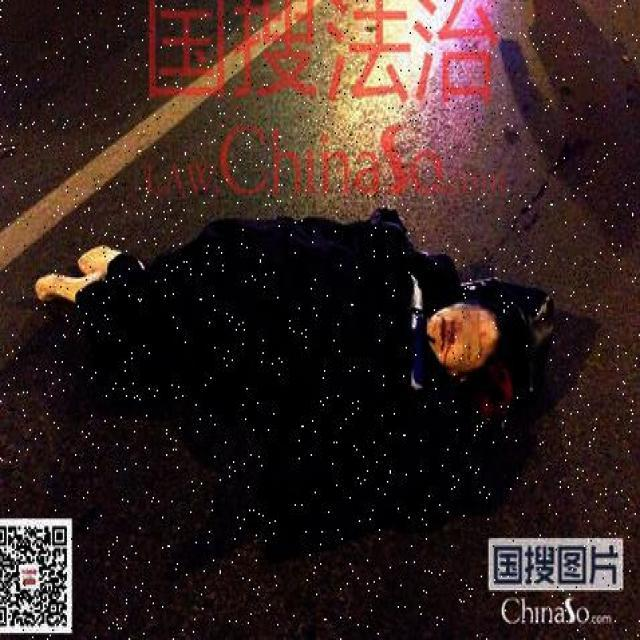fall: (27, 216, 537, 459)
